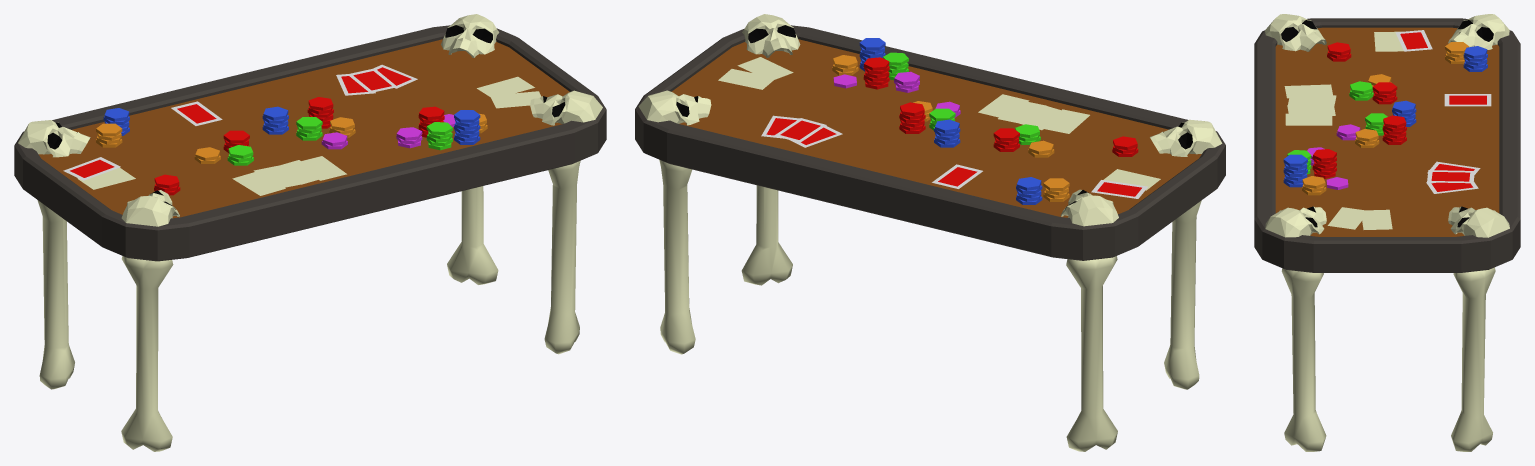
File: Tablev02.fbx
3 views of the same model, side by side, from view 1: azimuth 30°, elevation 25°; view 2: azimuth 150°, elevation 25°; view 3: azimuth 270°, elevation 25° (orthographic). The views are drawn at different scales.
Visible parts, largest first — view 1: Circle.044; view 2: Circle.044; view 3: Circle.044.
Part boxes in pixels (<box>): Circle.044: <box>14,14,606,451</box>; Circle.044: <box>635,14,1225,451</box>; Circle.044: <box>1254,14,1520,451</box>.
Bounding box in the file's own units: 2 × 1.01 × 1.
